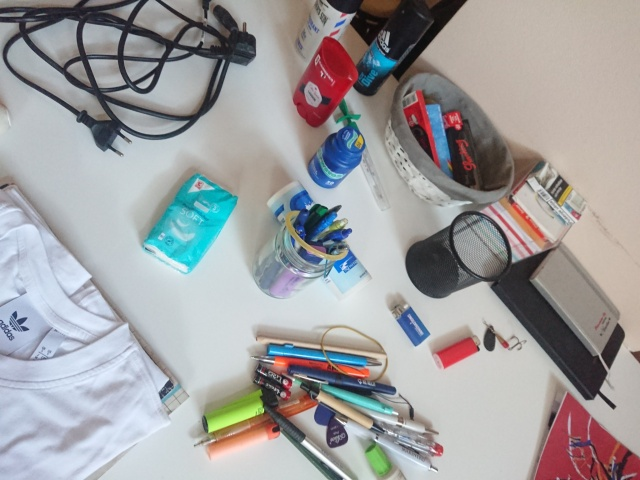Solana Pag Fine Sea Salt 250g: (264, 178, 377, 307)
